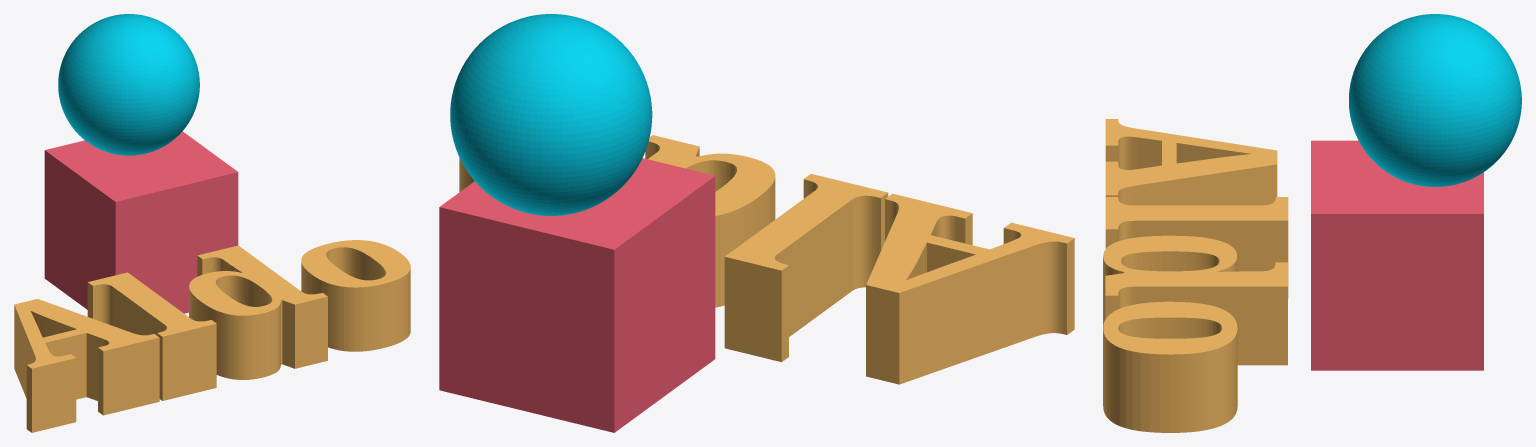
File: aldo.glb
3 views of the same model, side by side, from view 1: azimuth 30°, elevation 25°; view 2: azimuth 150°, elevation 25°; view 3: azimuth 270°, elevation 25° (orthographic). The views are drawn at different scales.
Visible parts, largest first — view 1: Mesh_Mesh_head_geo.001_lambert2SG.001; view 2: Mesh_Mesh_head_geo.001_lambert2SG.001; view 3: Mesh_Mesh_head_geo.001_lambert2SG.001.
Boxes of the visible parts, x1,y1,x2,y2 form: Mesh_Mesh_head_geo.001_lambert2SG.001: (14, 14, 410, 432); Mesh_Mesh_head_geo.001_lambert2SG.001: (439, 14, 1074, 432); Mesh_Mesh_head_geo.001_lambert2SG.001: (1103, 14, 1521, 432).
Bounding box in the file's own units: 64.34 × 40 × 48.36.
